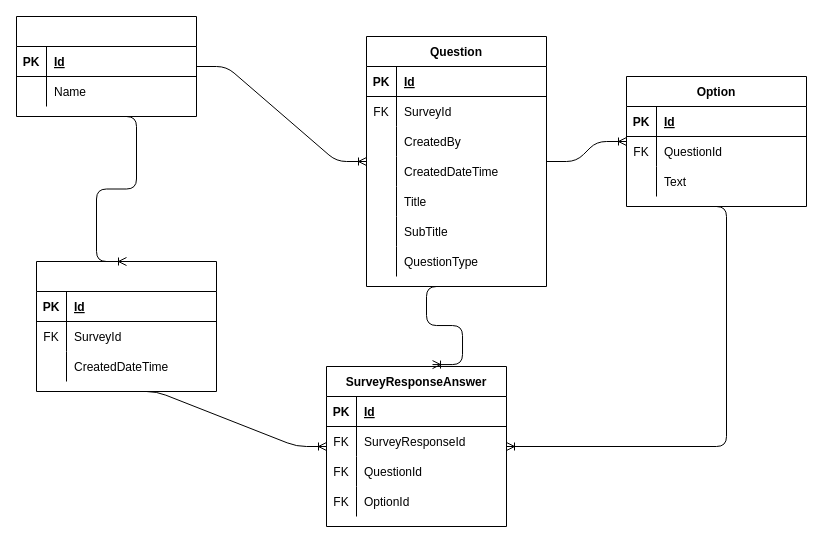
The diagram is 823 pixels wide and 543 high, and some of its shapes have lost their labels. The shapes that lost their labels are listed below. From the top down, each one's box as (x1, y1, x2, y2) in pixels, then its label:
(16, 16, 196, 116): Survey
(36, 260, 216, 392): SurveyResponse
